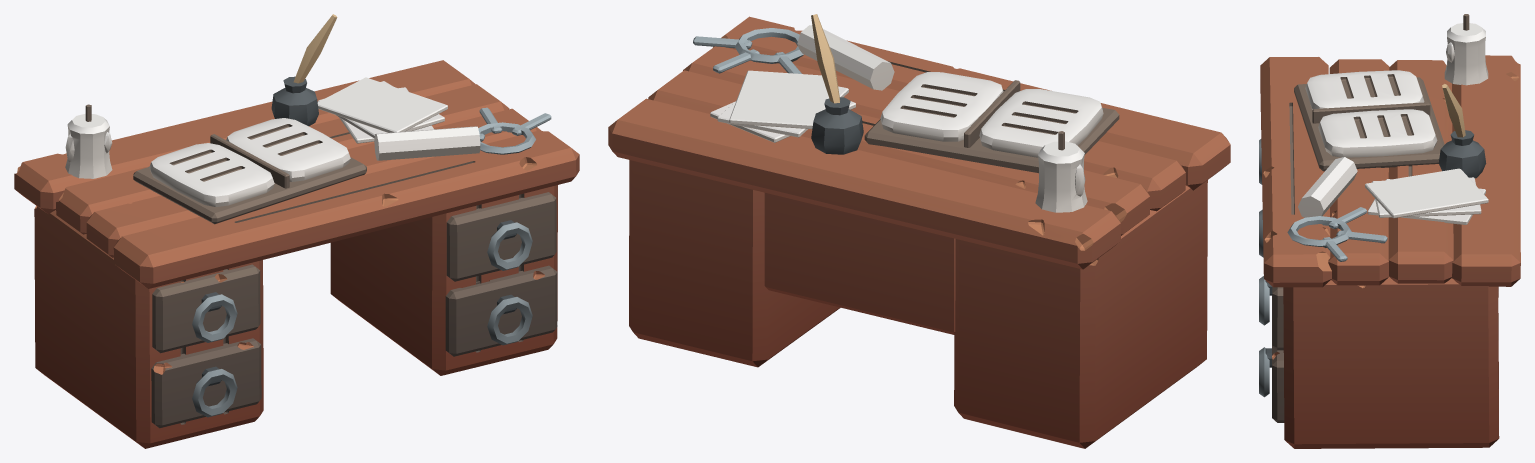
Rendered from desk.glb.
3 renders of one model, left to right at view 1: azimuth 30°, elevation 25°; view 2: azimuth 150°, elevation 25°; view 3: azimuth 270°, elevation 25°, orthographic. The views are drawn at different scales.
Visible parts, largest first — view 1: desk; view 2: desk; view 3: desk.
Part boxes in pixels (x1=…): desk: x1=14, y1=14, x2=579, y2=448; desk: x1=608, y1=14, x2=1230, y2=448; desk: x1=1259, y1=14, x2=1520, y2=448.
Size of the model in its own units: 2.52 by 1.68 by 1.32.
1 material, 1 textured.
